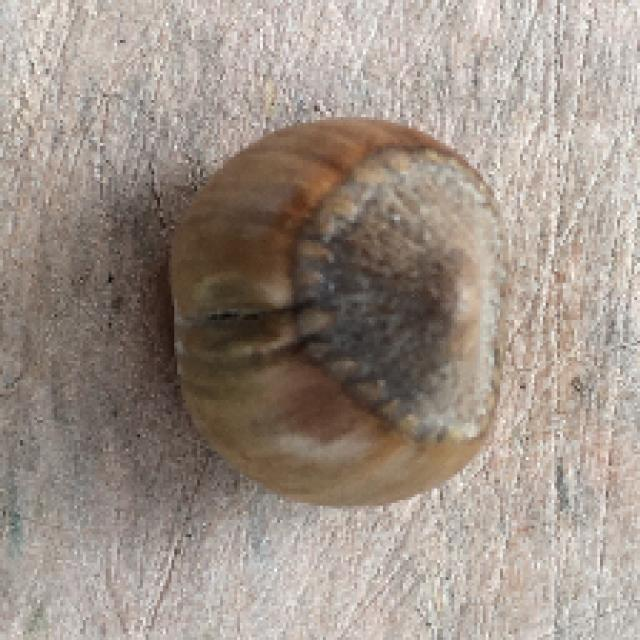damagedHazelnut: (161, 106, 515, 509)
